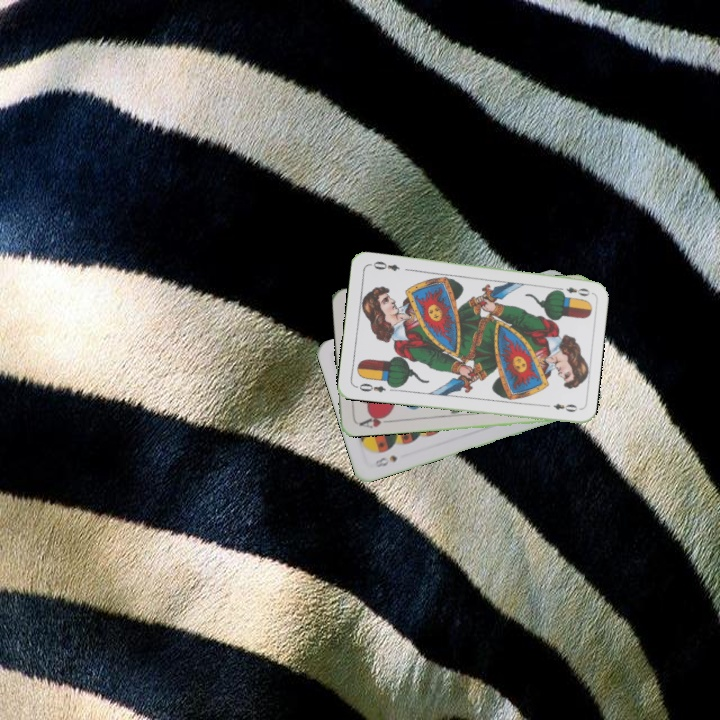EO: (553, 283, 592, 299), (352, 379, 388, 395)
HA: (355, 410, 395, 431)
S8: (370, 451, 400, 470)
